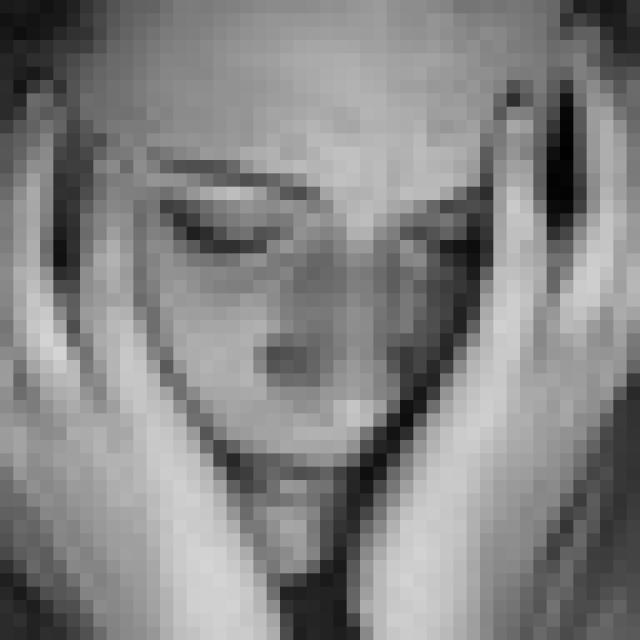sad: (135, 140, 502, 521)
